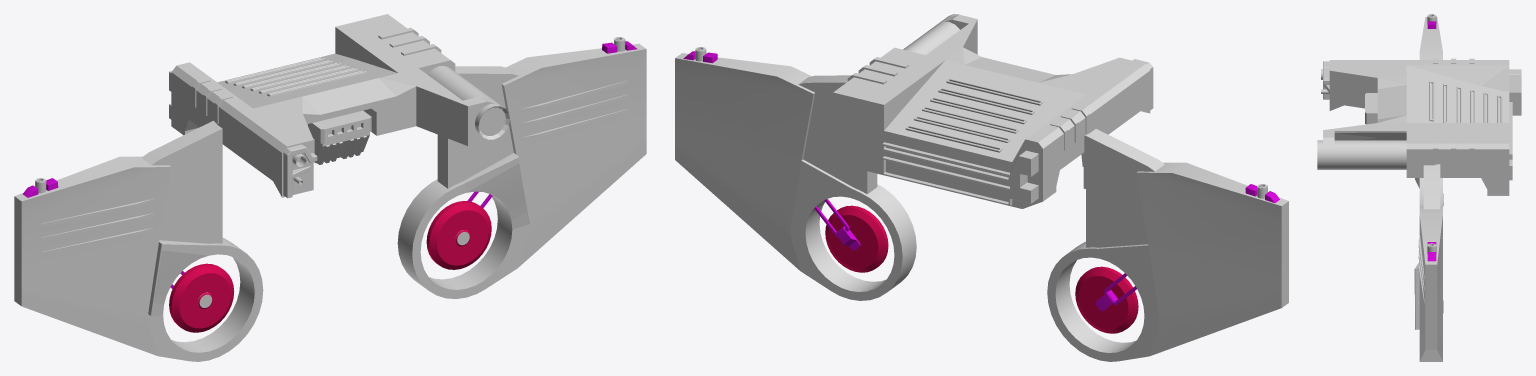
The model's file is Drone Ver 2 Sep Parts.fbx.
The picture shows the model from 3 angles, left to right: view 1: azimuth 30°, elevation 25°; view 2: azimuth 150°, elevation 25°; view 3: azimuth 270°, elevation 25°; orthographic projection. The views are drawn at different scales.
Parts seen in each view (by area): view 1: Wing.003, Wing.002, Wing.001; view 2: Wing.003, Wing.001, Wing.002; view 3: Wing.001, Wing.002, Wing.003.
Part boxes in pixels (left/top/right/bottom): Wing.003: left=14, top=121, right=263, bottom=361; Wing.002: left=397, top=37, right=646, bottom=298; Wing.001: left=169, top=14, right=509, bottom=198; Wing.003: left=1047, top=129, right=1288, bottom=361; Wing.001: left=829, top=14, right=1153, bottom=208; Wing.002: left=675, top=47, right=916, bottom=300; Wing.001: left=1317, top=58, right=1521, bottom=195; Wing.002: left=1414, top=164, right=1443, bottom=361; Wing.003: left=1415, top=14, right=1443, bottom=205.
Bounding box in the file's own units: 166 × 63.54 × 57.77.
